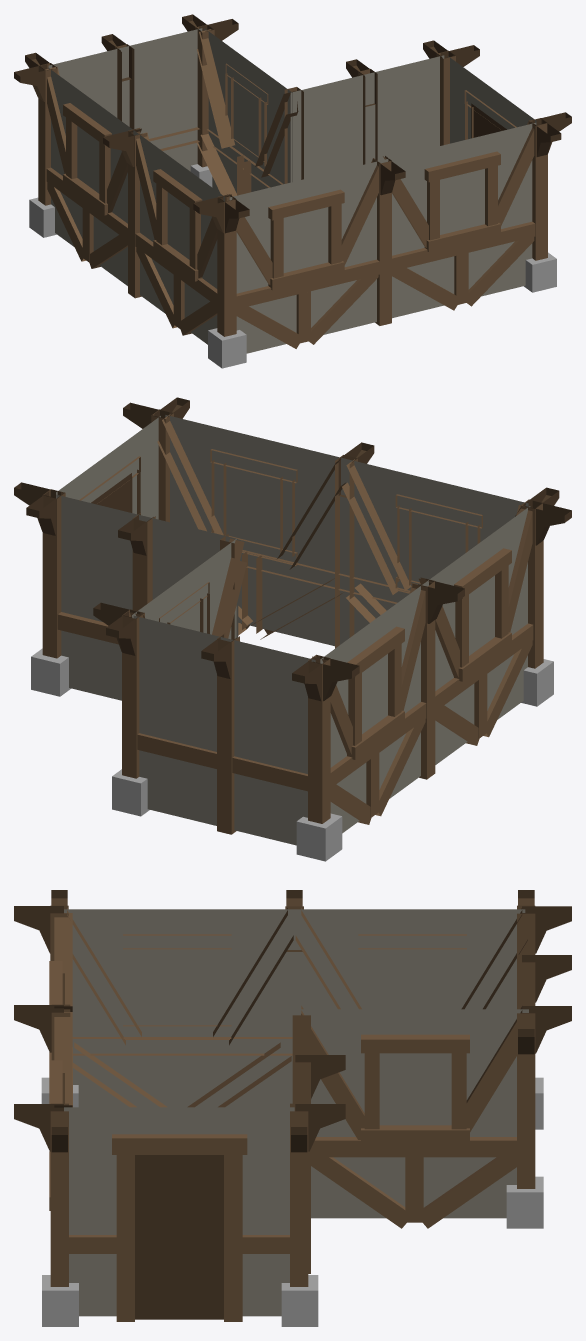
Rendered from M_House_RDC.fbx.
3 renders of one model, top to bottom at view 1: azimuth 30°, elevation 25°; view 2: azimuth 150°, elevation 25°; view 3: azimuth 270°, elevation 25°, orthographic. The views are drawn at different scales.
Visible parts, largest first — view 1: pCube2, pCube4, pCube3, pCube5, pCube6, pCube23, pCube34 (×4), pCube41 (×4), pCube40 (×4), pCube43 (×4), pCube44 (×4), pCube33 (×4) (+31 smaller); view 2: pCube2, pCube5, pCube3, pCube4, pCube41 (×4), polySurface1, pCube6, pCube52, pCube17, pCube22, pCube21, pCube14 (+32 smaller); view 3: pCube3, pCube6, polySurface1, Door_low, pCube40 (×4), pCube20, pCube34 (×3), pCube24, pCube13, pCube14, pCube16, pCube7 (+29 smaller).
Boxes of the visible parts, x1,y1,x2,y2 form: pCube2: (229, 123, 536, 353); pCube4: (290, 55, 444, 182); pCube3: (48, 67, 224, 344); pCube5: (48, 28, 202, 171); pCube6: (204, 28, 292, 193); pCube23: (236, 221, 535, 308); pCube34 (×4): (63, 103, 500, 220); pCube41 (×4): (107, 120, 536, 277); pCube40 (×4): (45, 66, 428, 284); pCube43 (×4): (47, 182, 457, 348); pCube44 (×4): (89, 235, 534, 344); pCube33 (×4): (63, 173, 500, 290); pCube2: (165, 415, 528, 646); pCube5: (133, 616, 315, 845); pCube3: (320, 506, 530, 833); pCube4: (56, 494, 238, 700); pCube41 (×4): (157, 414, 532, 710); polySurface1: (56, 416, 160, 519); pCube6: (132, 538, 236, 639); pCube52: (217, 633, 239, 834); pCube17: (308, 654, 330, 823); pCube22: (330, 623, 533, 787); pCube21: (137, 733, 307, 791); pCube14: (42, 489, 65, 658); pCube3: (64, 909, 525, 1107); pCube6: (298, 1009, 528, 1218); polySurface1: (64, 1107, 294, 1316); Door_low: (135, 1155, 223, 1319); pCube40 (×4): (54, 908, 527, 1105); pCube20: (311, 1137, 516, 1157); pCube34 (×3): (49, 961, 469, 1103); pCube24: (116, 1155, 134, 1321); pCube13: (224, 1155, 242, 1321); pCube14: (290, 1103, 308, 1286); pCube16: (517, 1005, 535, 1188); pCube7: (50, 1103, 68, 1286).
Size of the model in its own units: 6.08 by 2.59 by 6.05.
